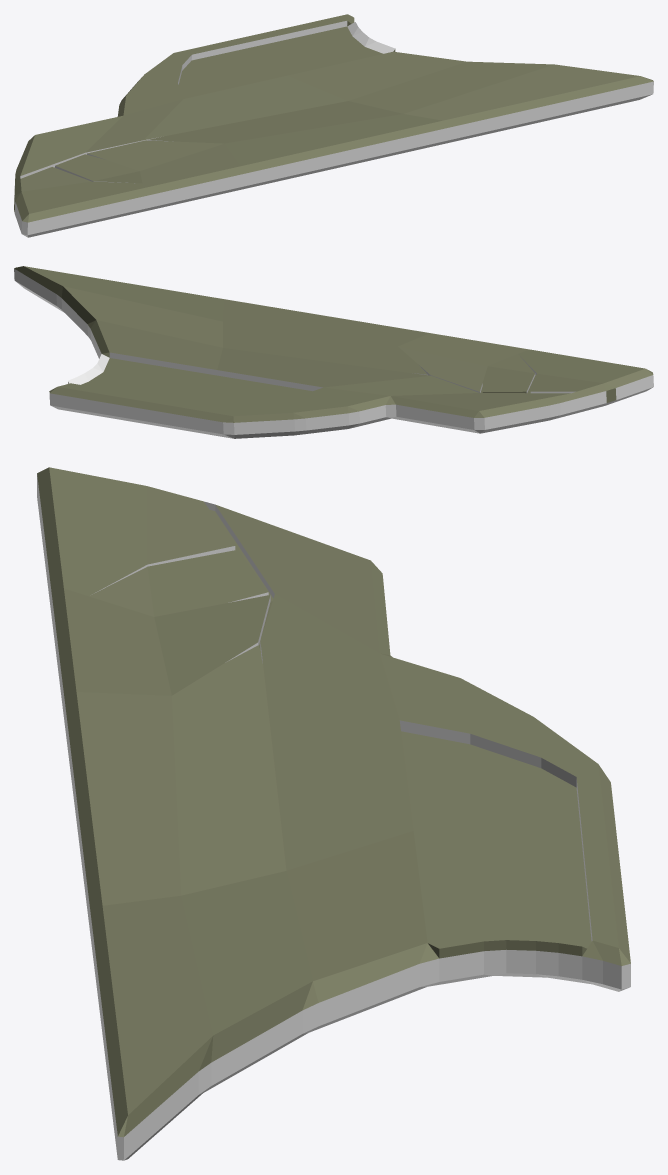
Rendered from Rock2.fbx.
3 renders of one model, top to bottom at view 1: azimuth 30°, elevation 25°; view 2: azimuth 150°, elevation 25°; view 3: azimuth 270°, elevation 25°, orthographic. The views are drawn at different scales.
Visible parts, largest first — view 1: Rock2; view 2: Rock2; view 3: Rock2.
Part boxes in pixels (<box>): Rock2: <box>14,14,653,237</box>; Rock2: <box>14,266,653,438</box>; Rock2: <box>37,467,630,1160</box>.
Bounding box in the file's own units: 150 × 12.16 × 62.34.
